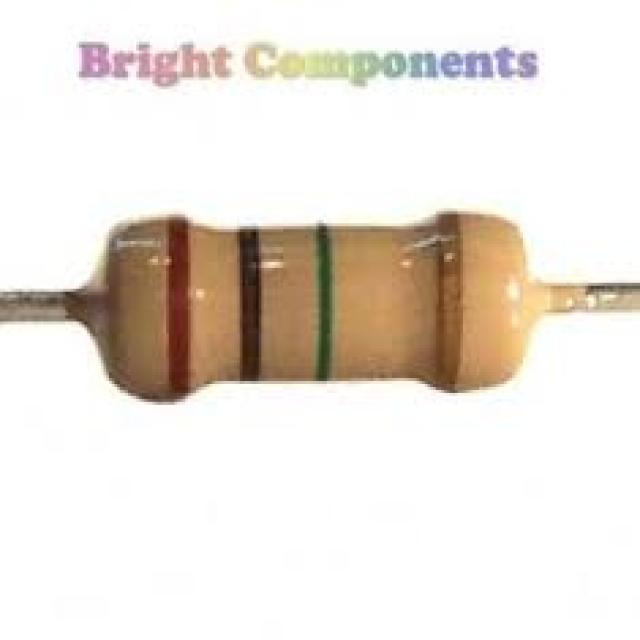Resistor: (61, 194, 591, 442)
